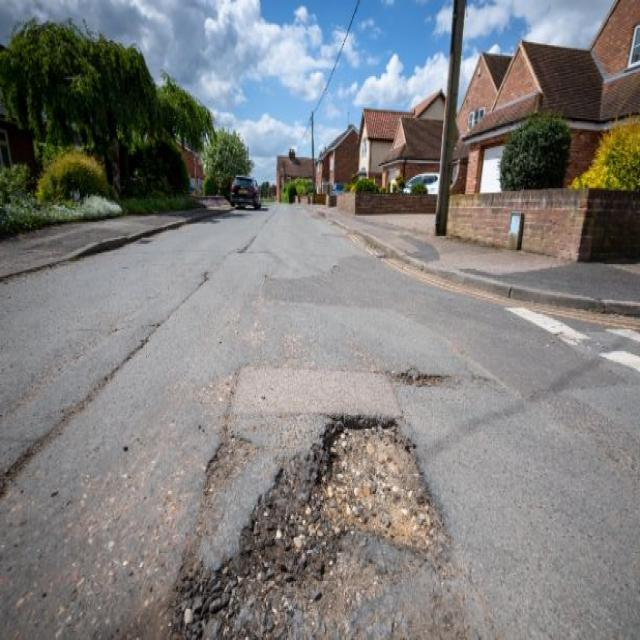Pothole: (222, 405, 463, 618)
